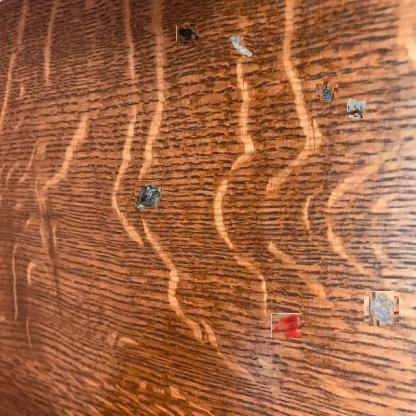dirty: (366, 294, 397, 324), (134, 180, 162, 210), (230, 34, 254, 58), (318, 82, 336, 100), (347, 100, 365, 116)
liquid: (271, 313, 302, 338), (178, 25, 198, 44)
